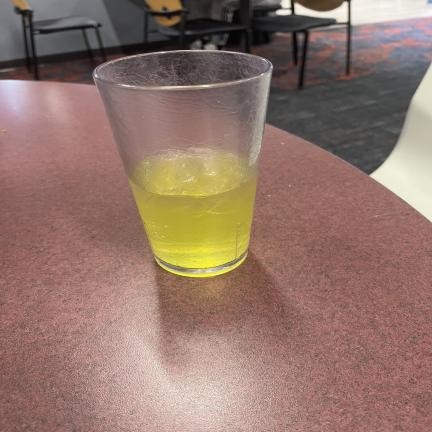container: (93, 50, 272, 277)
fluid: (130, 178, 256, 269)
fluid-surface: (132, 153, 255, 197)
